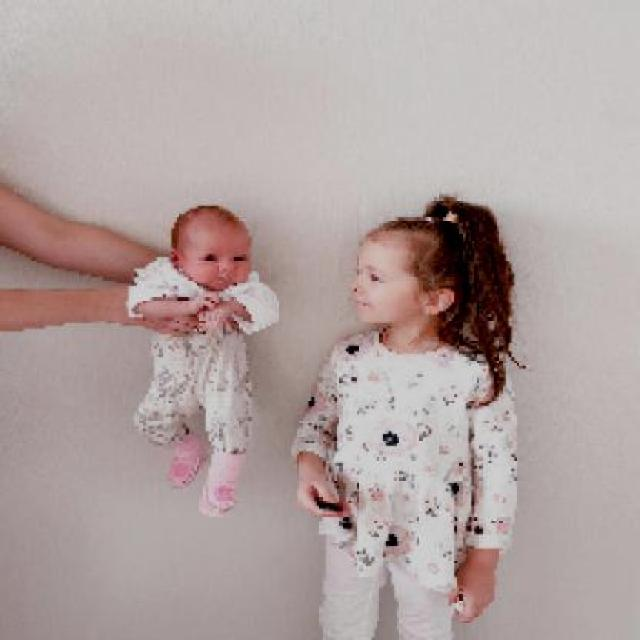child: (288, 194, 523, 637), (127, 205, 282, 518)
